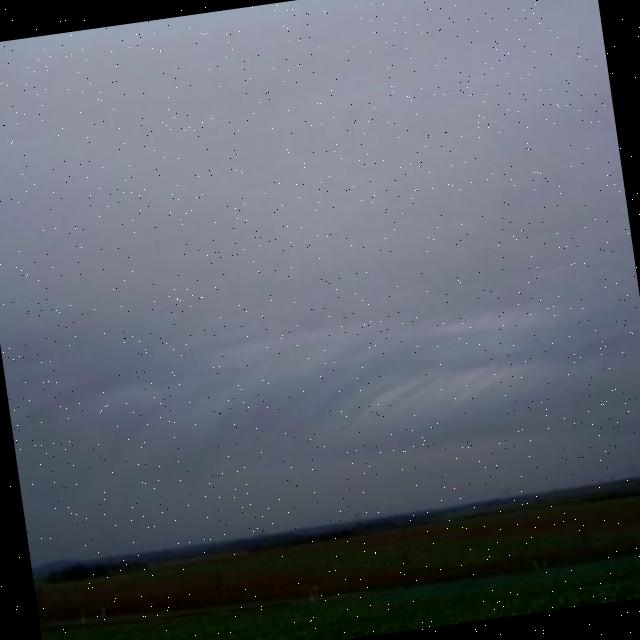As: (1, 1, 640, 537)
